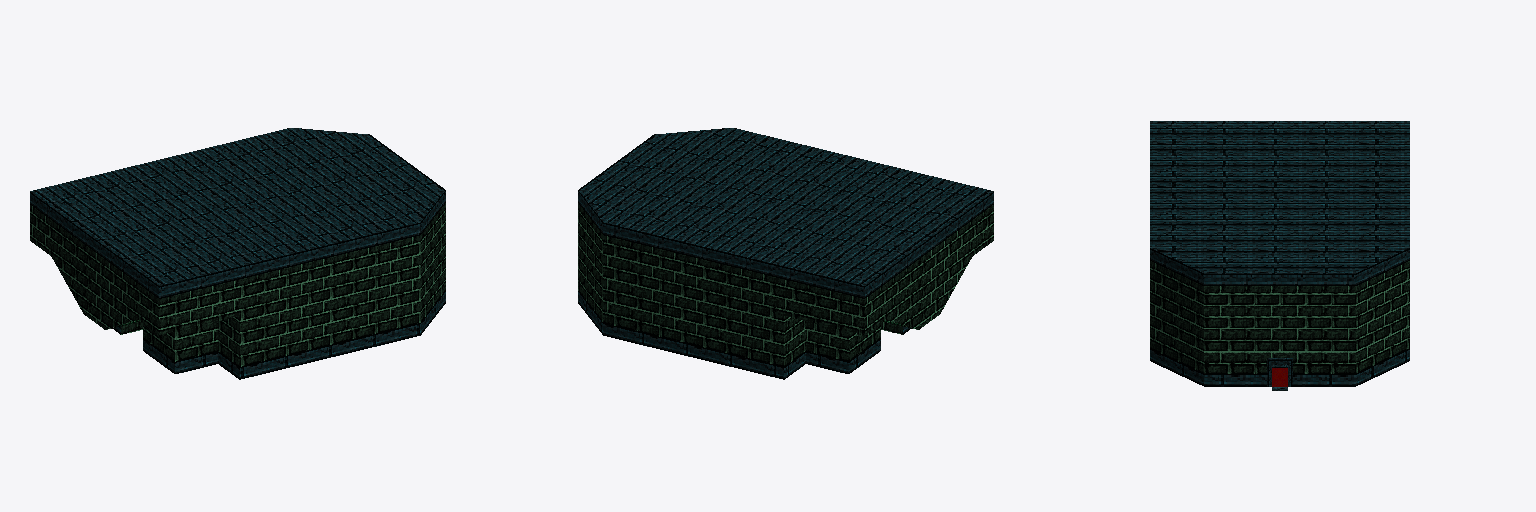
The picture shows the model from 3 angles: view 1: azimuth 30°, elevation 25°; view 2: azimuth 150°, elevation 25°; view 3: azimuth 270°, elevation 25°; orthographic projection.
Visible parts, largest first — view 1: mesh.003__212, mesh.003__260; view 2: mesh.003__212, mesh.003__260; view 3: mesh.003__212, mesh.003__260.
Part boxes in pixels (x1,y1,x2,y2): mesh.003__212: (30,128,445,379); mesh.003__260: (30,203,445,366); mesh.003__212: (578,128,993,379); mesh.003__260: (578,203,993,366); mesh.003__212: (1150,121,1409,390); mesh.003__260: (1150,261,1409,373).
Bounding box in the file's own units: 1452 × 487 × 1009.
11 materials, 8 textured.